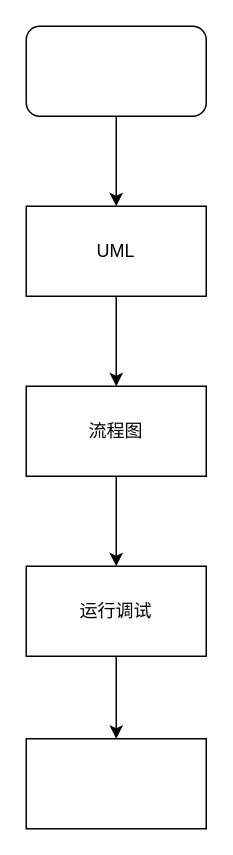
The diagram is 233 pixels wide and 855 high, and some of its shapes have lost their labels. Each missing label, with the box of its shape:
命名规则: (25, 737, 206, 829)
重构敲一遍: (25, 25, 206, 116)
